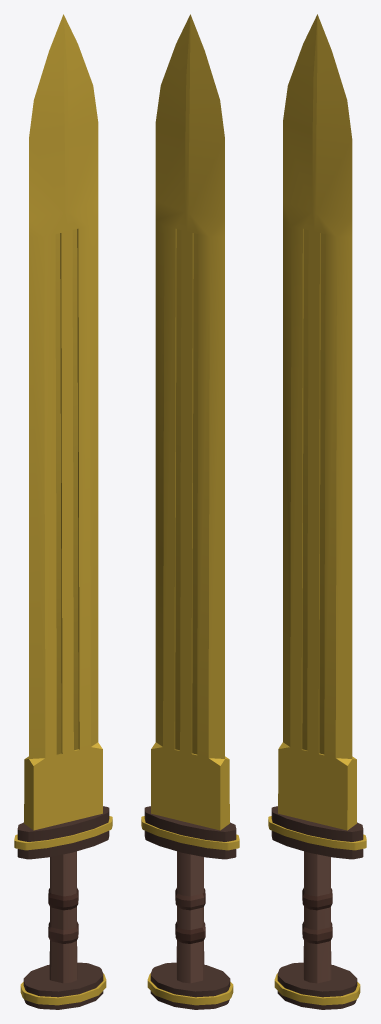
Rendered from SM_Sword18_Spatha_2Gold.fbx.
3 views of the same model, side by side, from view 1: azimuth 30°, elevation 25°; view 2: azimuth 150°, elevation 25°; view 3: azimuth 330°, elevation 25° (orthographic).
Parts seen in each view (by area): view 1: Cube.038, Cylinder.436, Cylinder.439, Cylinder.438, Cylinder.440, Cylinder.441; view 2: Cube.038, Cylinder.436, Cylinder.439, Cylinder.438, Cylinder.440, Cylinder.441; view 3: Cube.038, Cylinder.436, Cylinder.439, Cylinder.438, Cylinder.440, Cylinder.441.
Boxes of the visible parts, x1=… form: Cube.038: x1=24, y1=14, x2=102, y2=830; Cylinder.436: x1=48, y1=851, x2=78, y2=983; Cylinder.439: x1=17, y1=806, x2=109, y2=859; Cylinder.438: x1=23, y1=962, x2=103, y2=1009; Cylinder.440: x1=14, y1=816, x2=112, y2=850; Cylinder.441: x1=20, y1=973, x2=106, y2=1005; Cube.038: x1=151, y1=14, x2=229, y2=830; Cylinder.436: x1=175, y1=851, x2=205, y2=983; Cylinder.439: x1=144, y1=806, x2=236, y2=859; Cylinder.438: x1=150, y1=962, x2=230, y2=1009; Cylinder.440: x1=141, y1=816, x2=239, y2=850; Cylinder.441: x1=147, y1=973, x2=233, y2=1005; Cube.038: x1=278, y1=14, x2=356, y2=830; Cylinder.436: x1=302, y1=851, x2=332, y2=983; Cylinder.439: x1=271, y1=806, x2=363, y2=859; Cylinder.438: x1=277, y1=962, x2=357, y2=1009; Cylinder.440: x1=268, y1=816, x2=366, y2=850; Cylinder.441: x1=274, y1=973, x2=360, y2=1005.
Size of the model in its own units: 0.0762 by 0.7359 by 0.0466.
